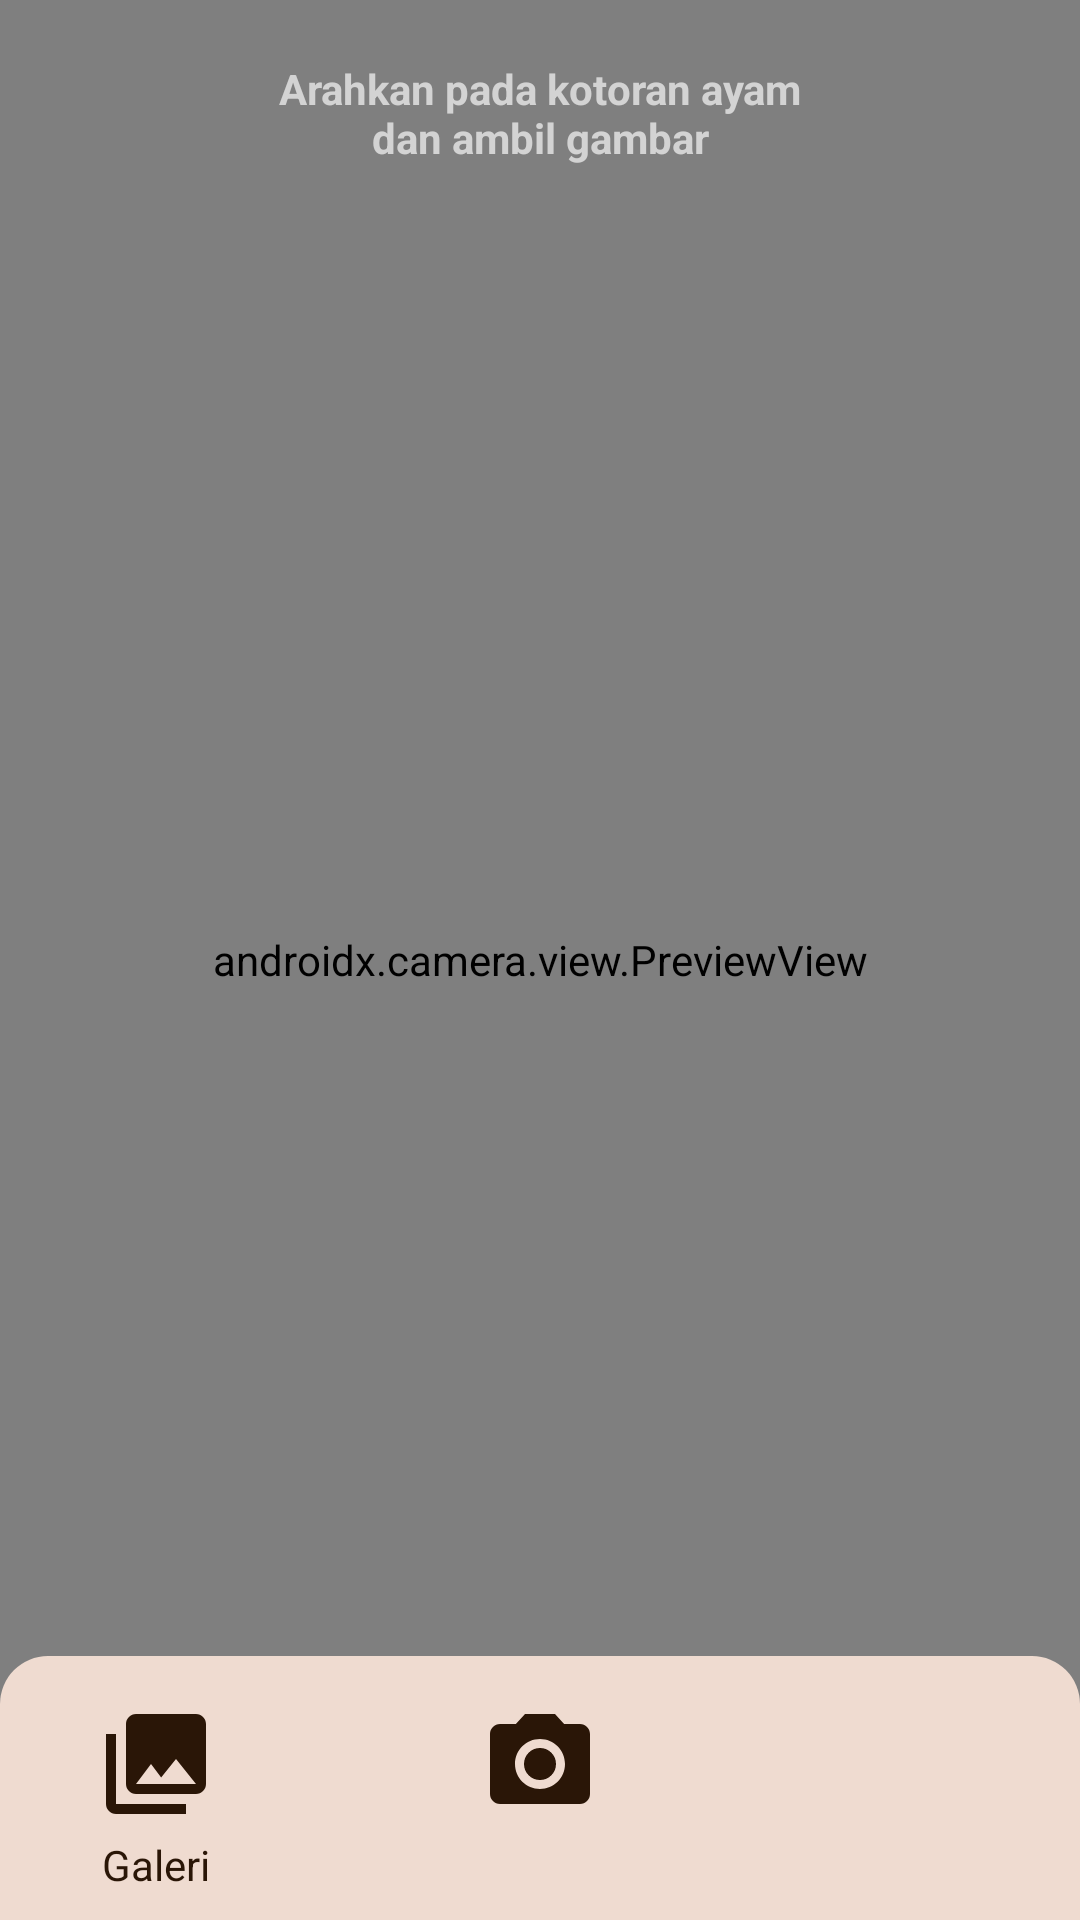

Point at icon controls on the screen. Image size 1080×1920, points as point (x, y).
capture image: point (540, 1759)
